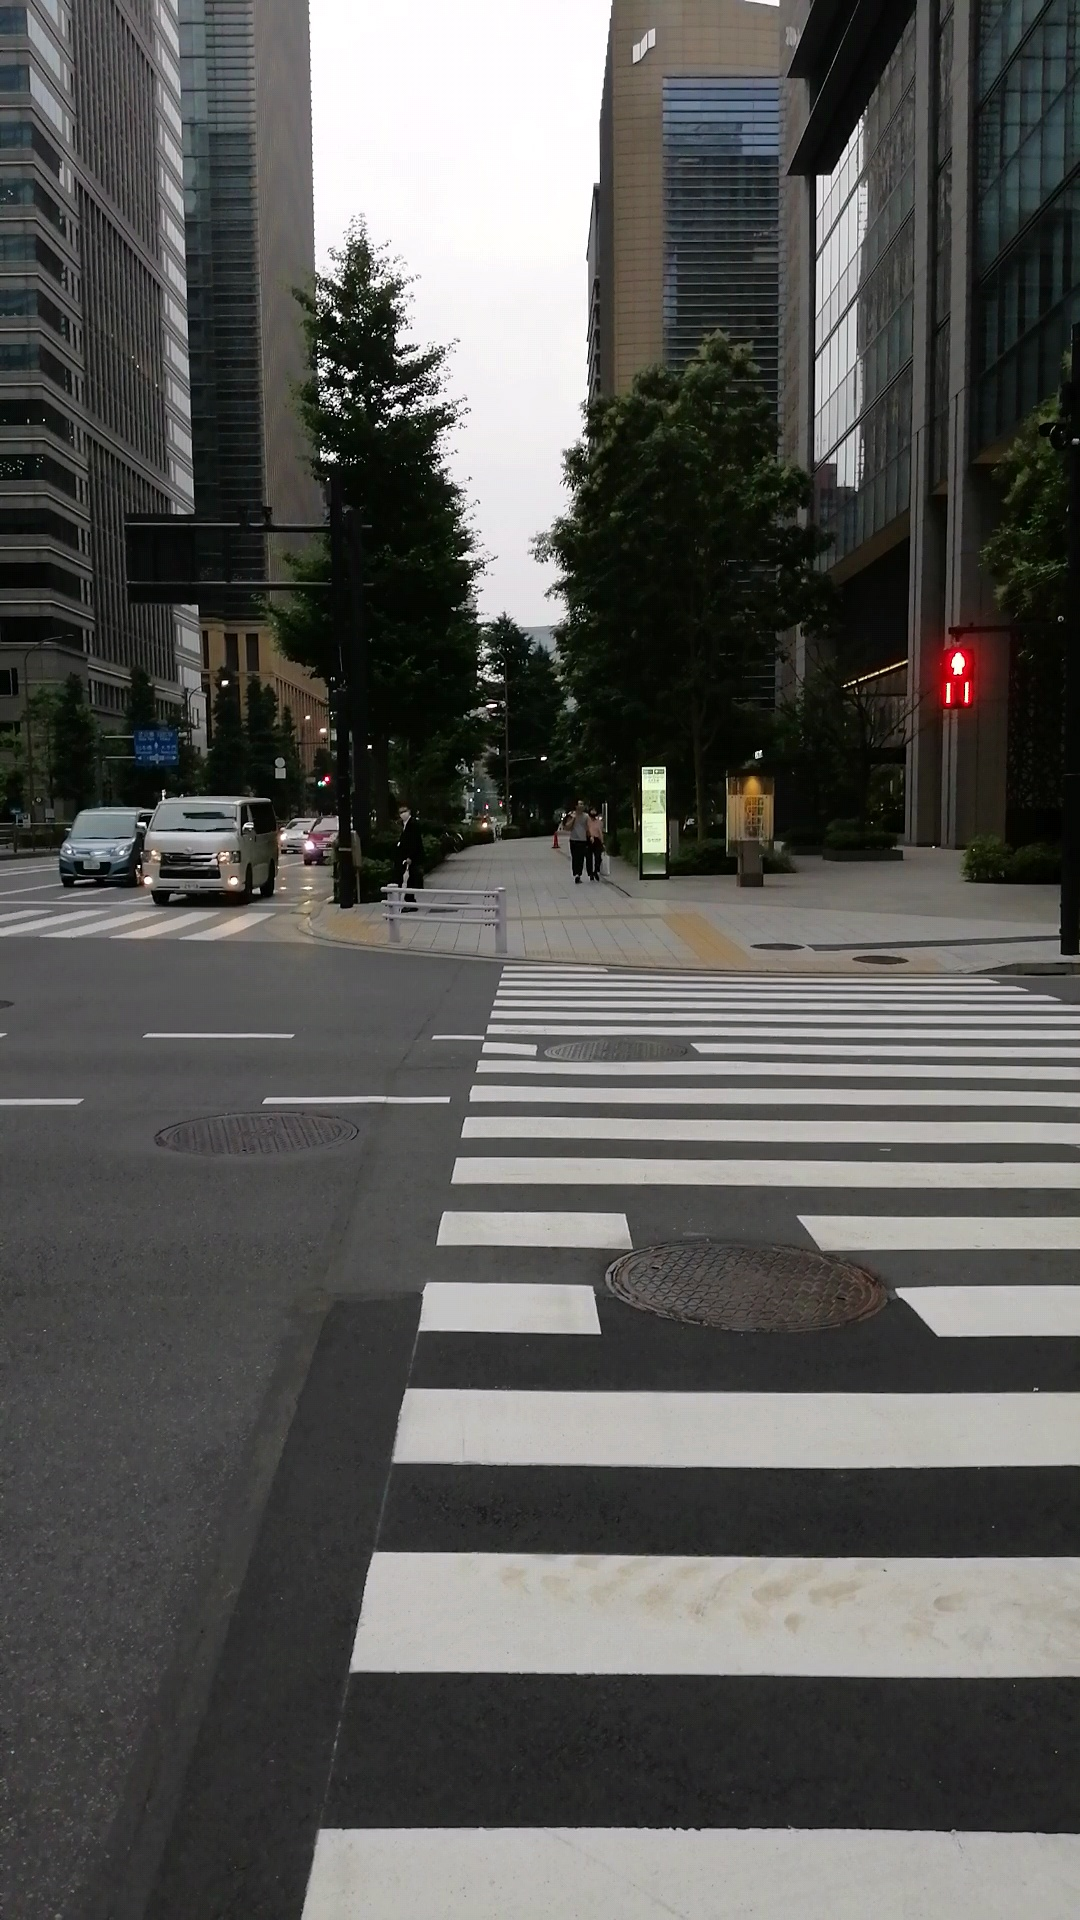red: (939, 645, 975, 711)
